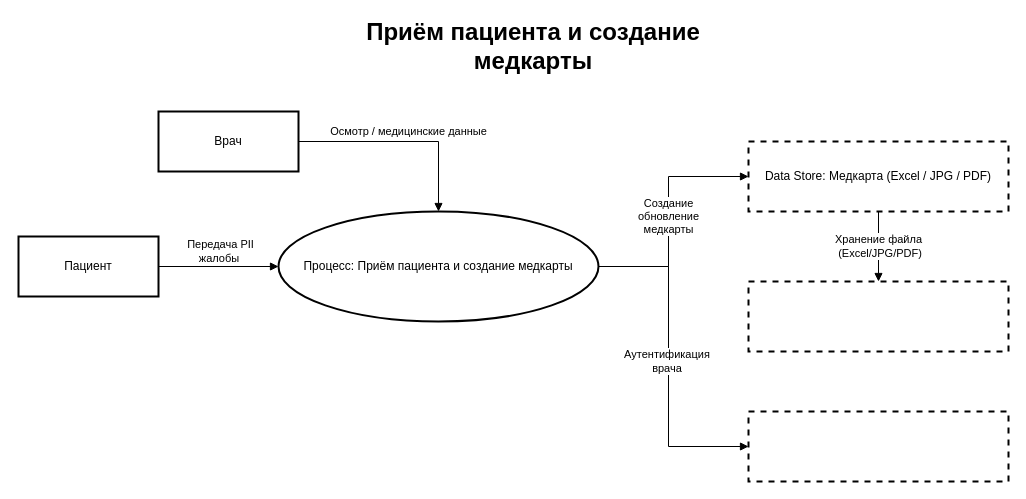
Some shapes in this 1026 by 499 pixel diagram are drawn without their labels. Each missing label, with the centre of its shape:
Data Store: Active Directory: point (878, 446)
Data Store: Файловый сервер: point (878, 316)
